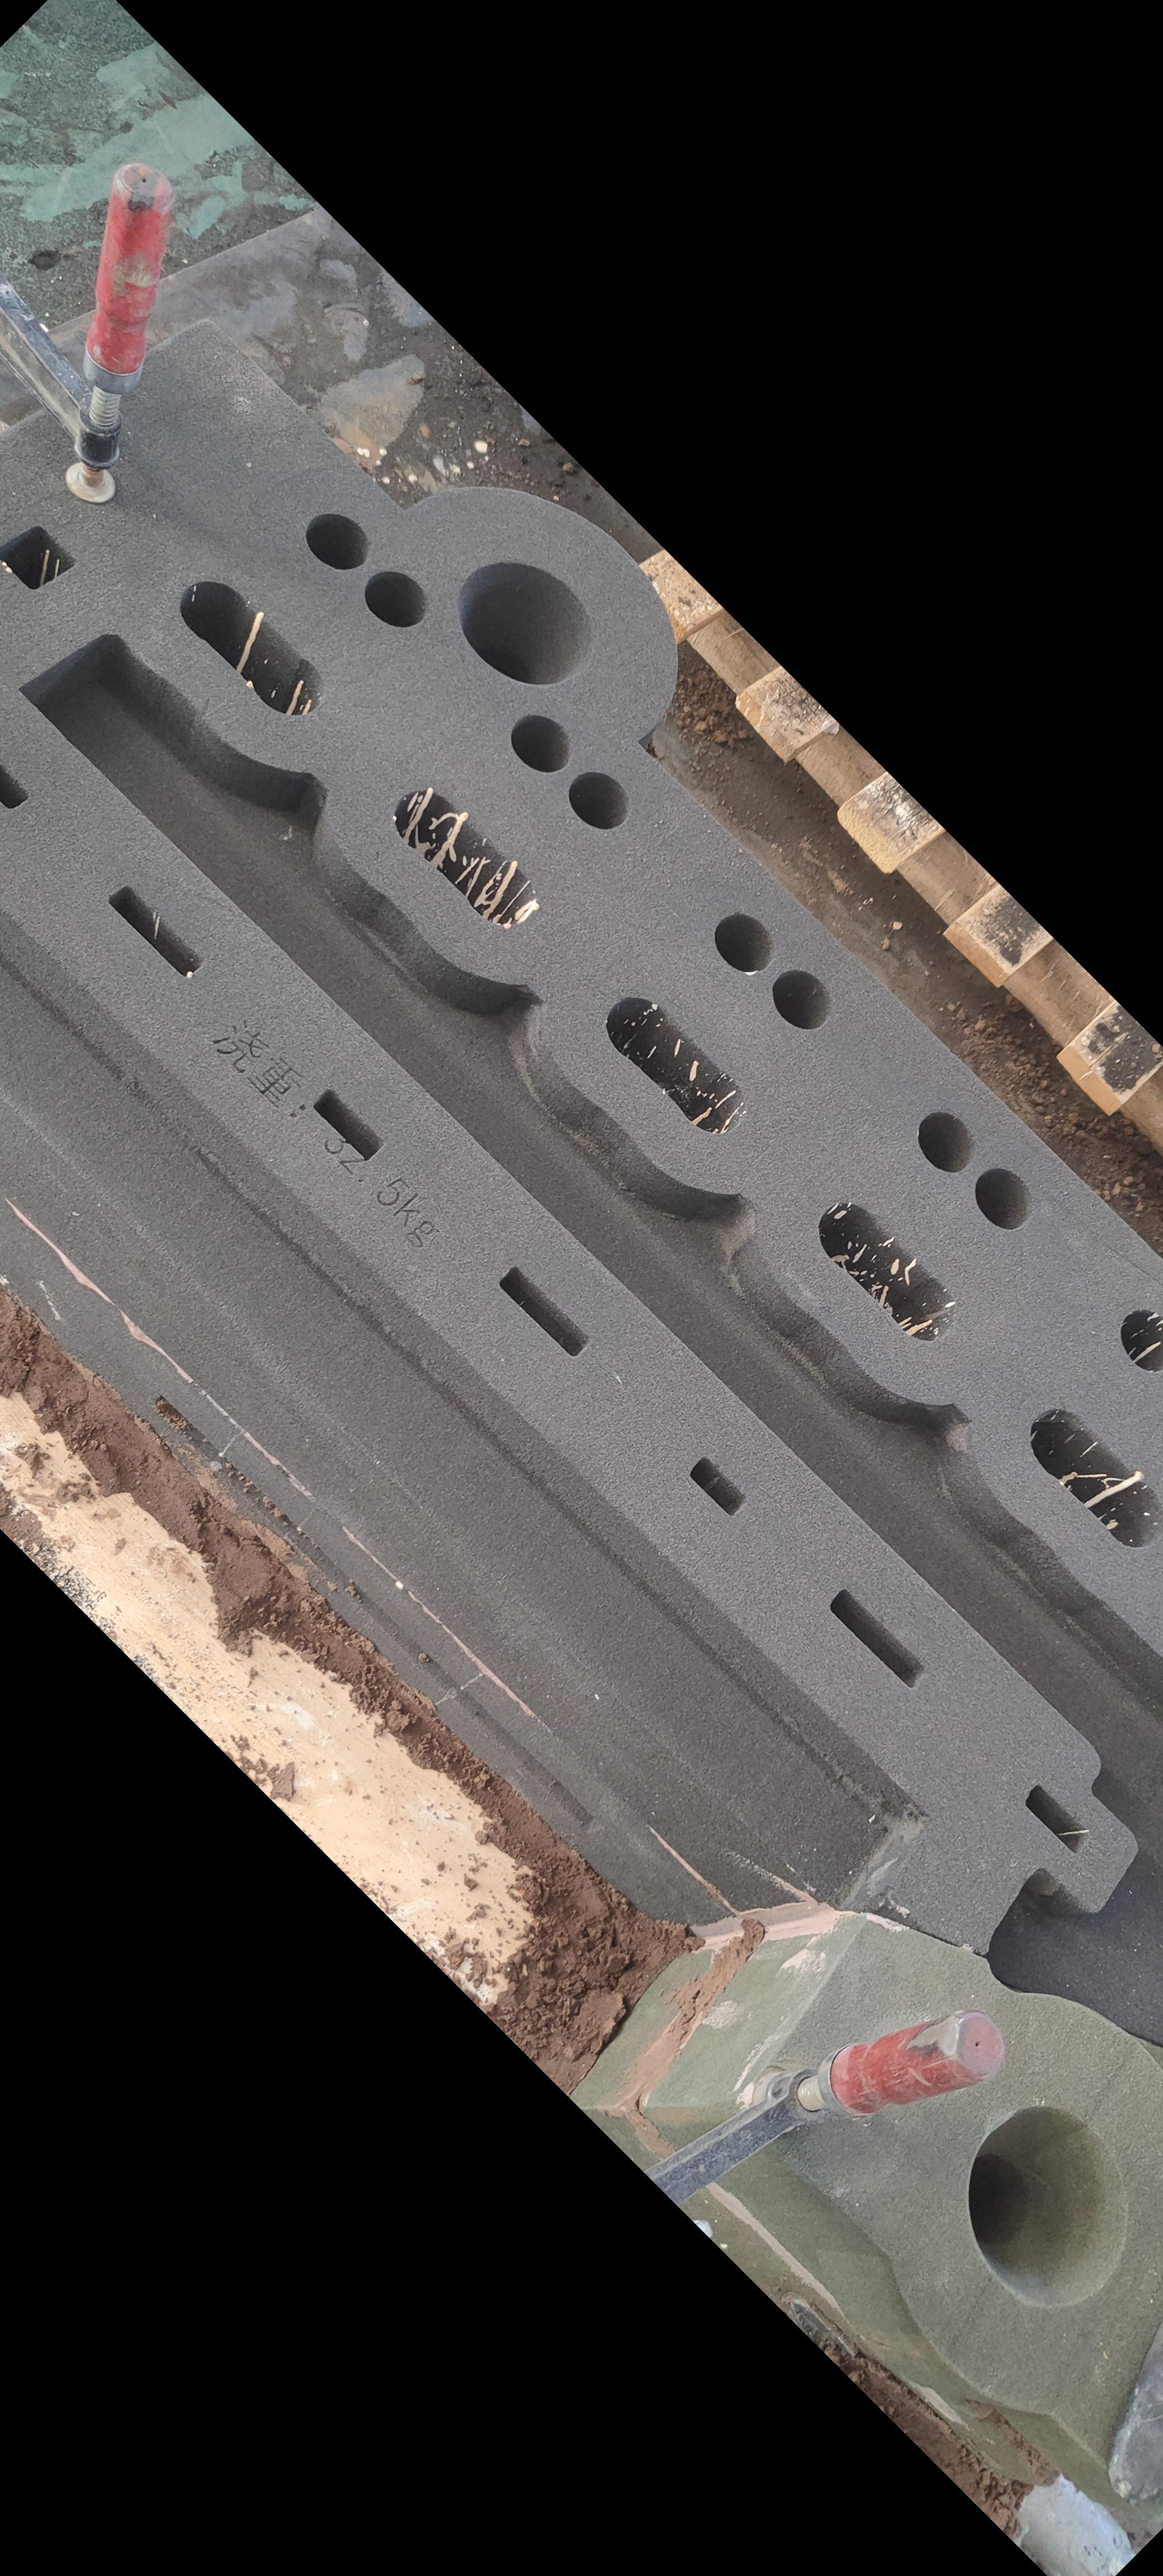pouring hole: (971, 2105, 1129, 2310), (457, 562, 591, 687)
